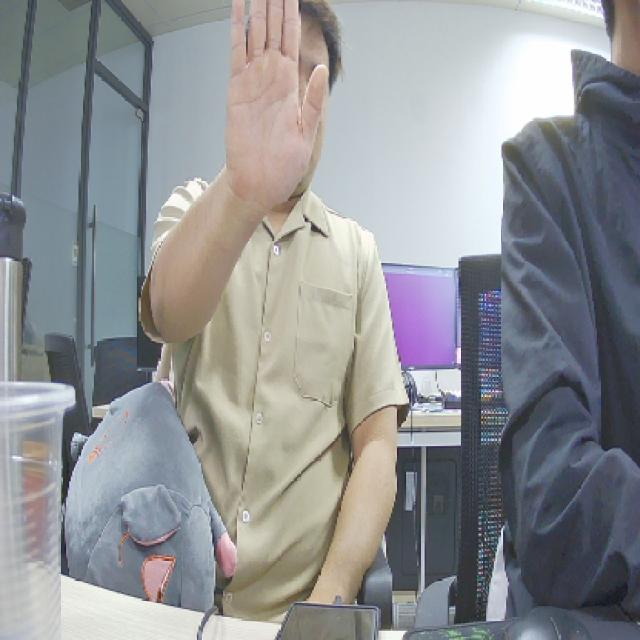7_mano_rostro: (222, 0, 324, 229)
